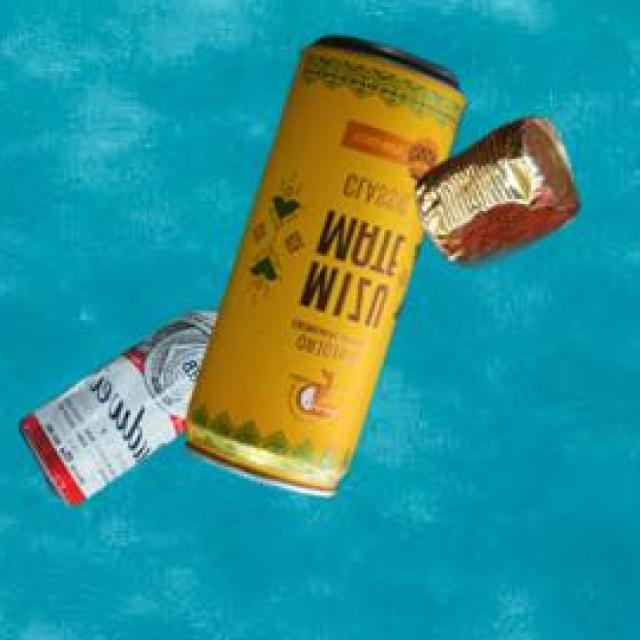logam: (184, 39, 461, 499), (15, 314, 216, 508), (414, 122, 575, 264)
